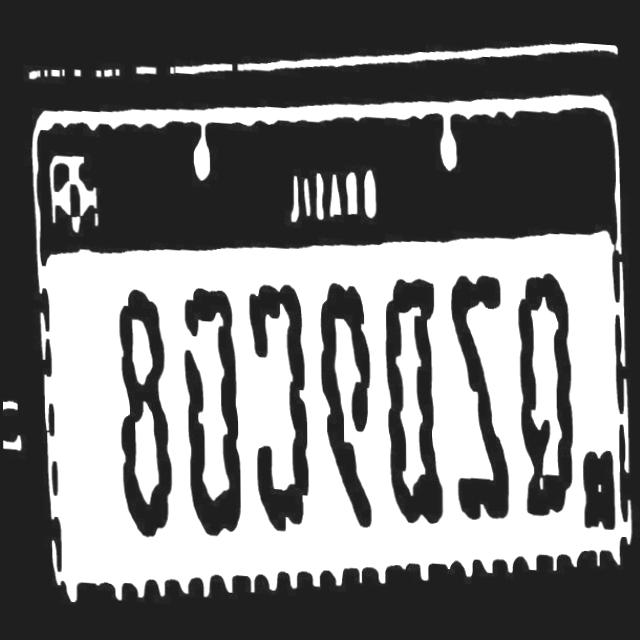0: (184, 274, 245, 541)
8: (117, 280, 174, 544)
9: (318, 274, 380, 532)
c: (246, 265, 314, 535)
d: (382, 268, 447, 523)
q: (516, 256, 576, 512)
z: (449, 252, 511, 515)
